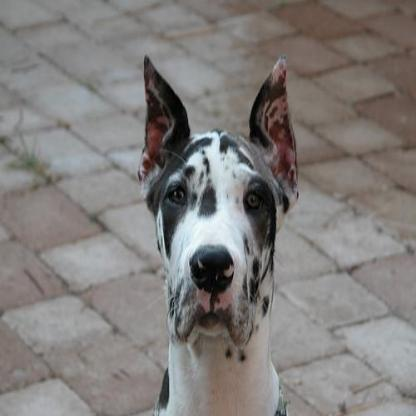Great_Dane: (137, 52, 301, 414)
